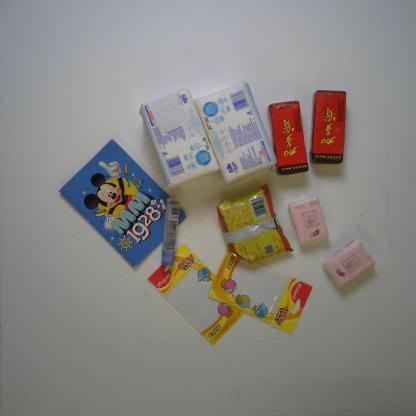Drink: (267, 100, 309, 176), (309, 88, 348, 166)
Seasoner: (216, 183, 294, 264)
Stationery: (58, 138, 187, 268), (146, 243, 245, 346), (206, 247, 314, 335), (160, 197, 181, 267)
Tissue: (194, 80, 277, 184), (139, 87, 221, 190), (321, 239, 376, 288), (288, 196, 331, 246)
